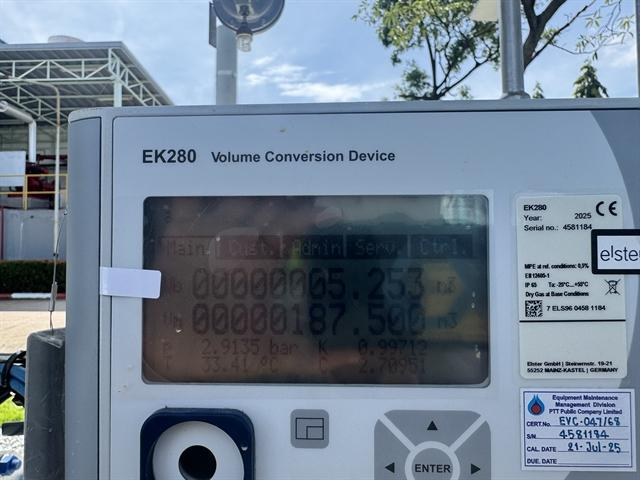digital_screen: (144, 194, 490, 386)
